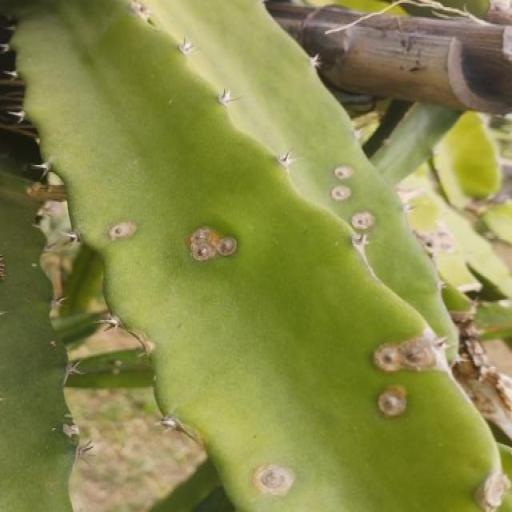stemcanker: (262, 387, 292, 446)
